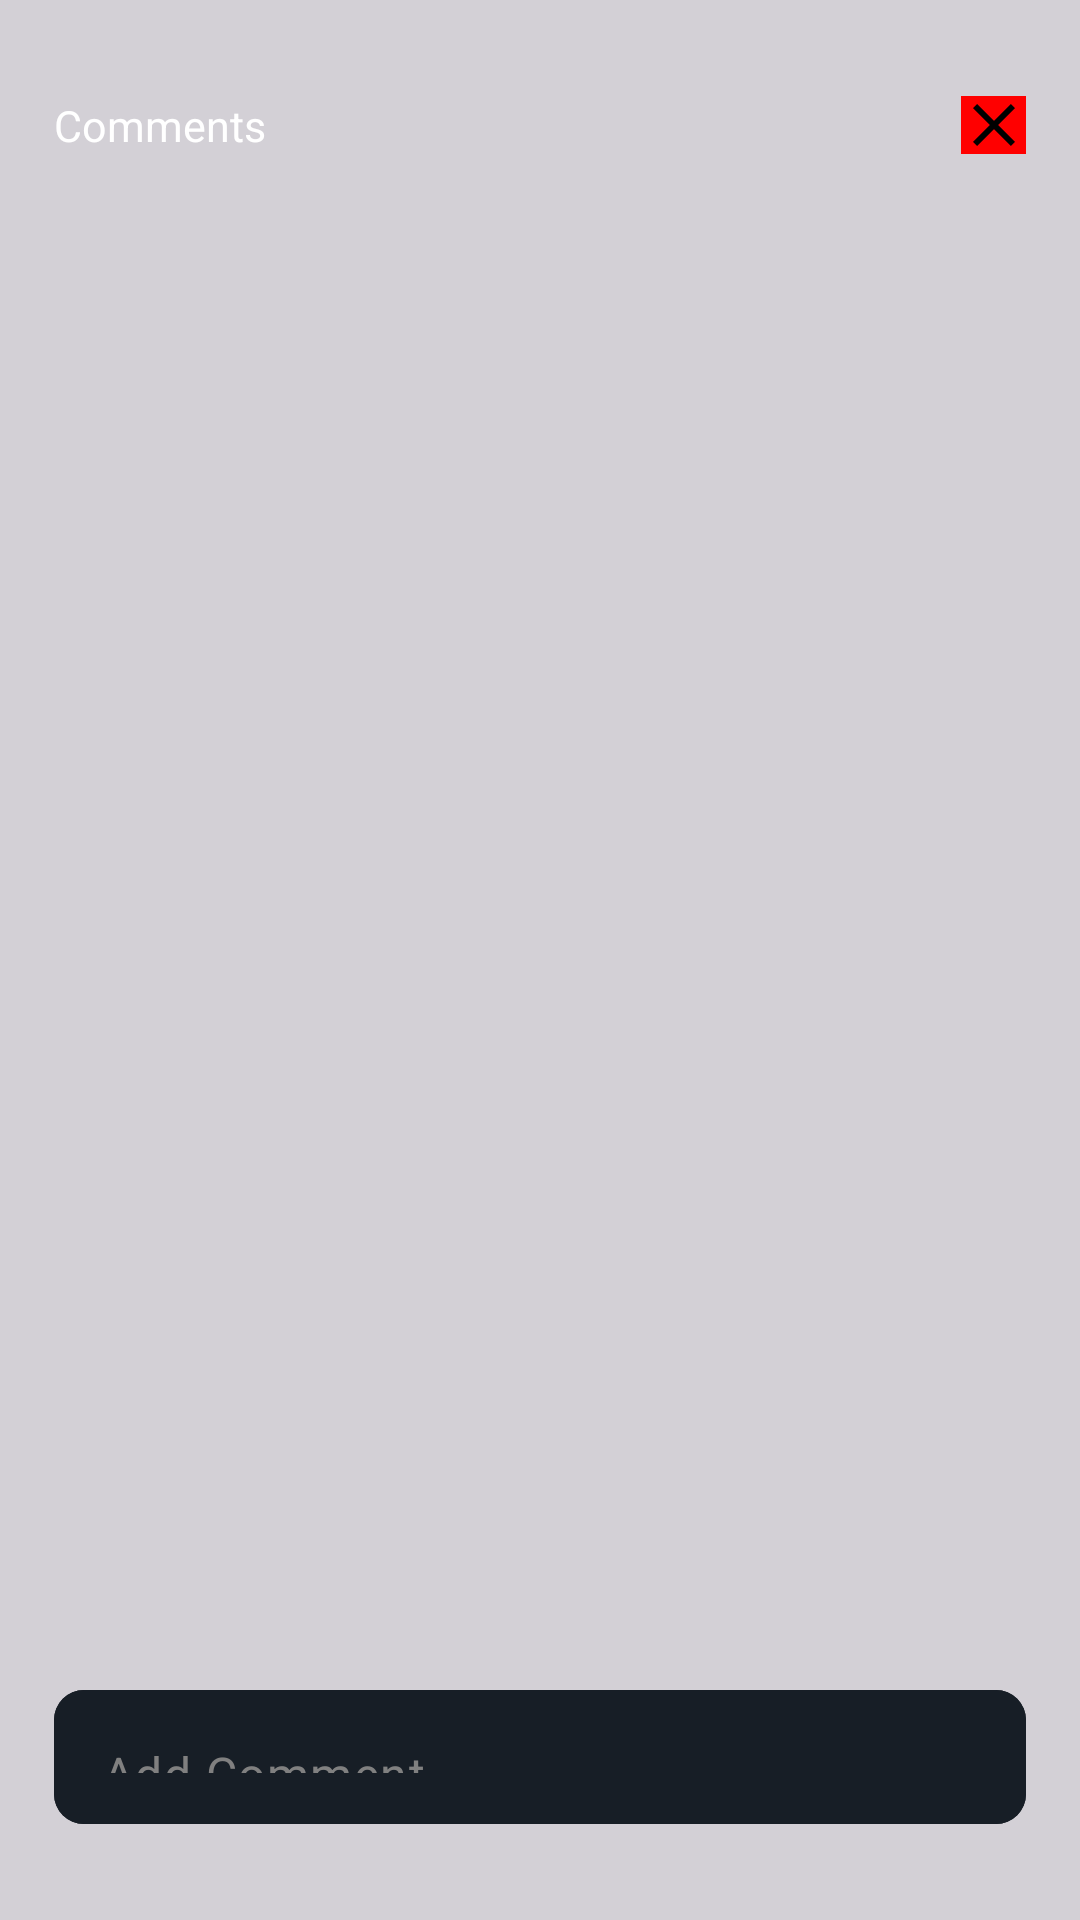

Named icons in this screenshot (1080*1920) and their bounding boxes, (left=x1, top=y1, right=x2, bottom=y2):
close: (left=961, top=96, right=1026, bottom=154)
